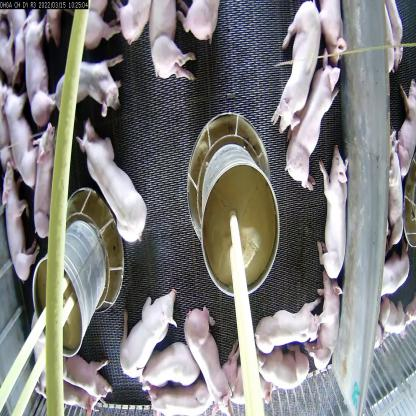Pig: (80, 131, 151, 249), (284, 57, 336, 180), (49, 53, 122, 125), (124, 281, 176, 378), (183, 310, 229, 415), (25, 134, 66, 250), (48, 345, 123, 407), (316, 146, 349, 285), (278, 0, 313, 131), (0, 164, 35, 288), (256, 342, 318, 410), (0, 85, 42, 175), (312, 274, 346, 385), (259, 304, 321, 363), (144, 2, 189, 82), (145, 342, 197, 398), (19, 10, 45, 120)
